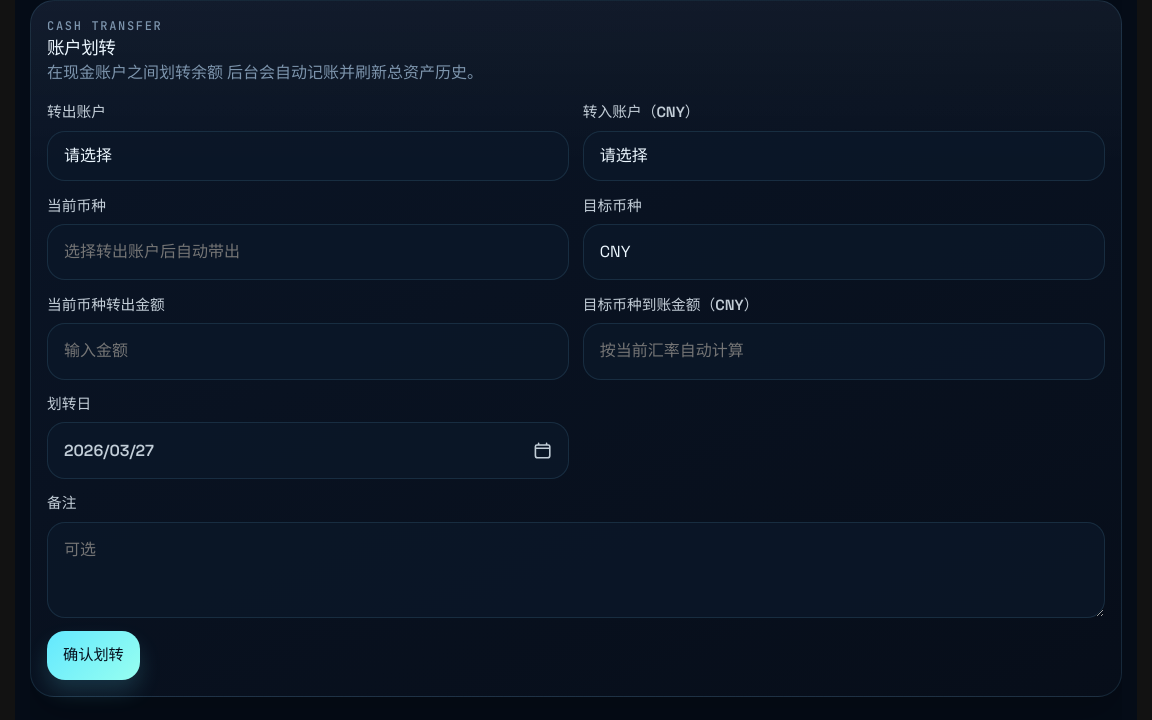
Test: CashTransferPanel › clamps transfer amount to the selected source account balance
The image size is (1152, 720).
Select "主账户 · 100 CNY" in the dropdown labelled "转出账户". click: point(308, 156)
box: [47,131,569,181]
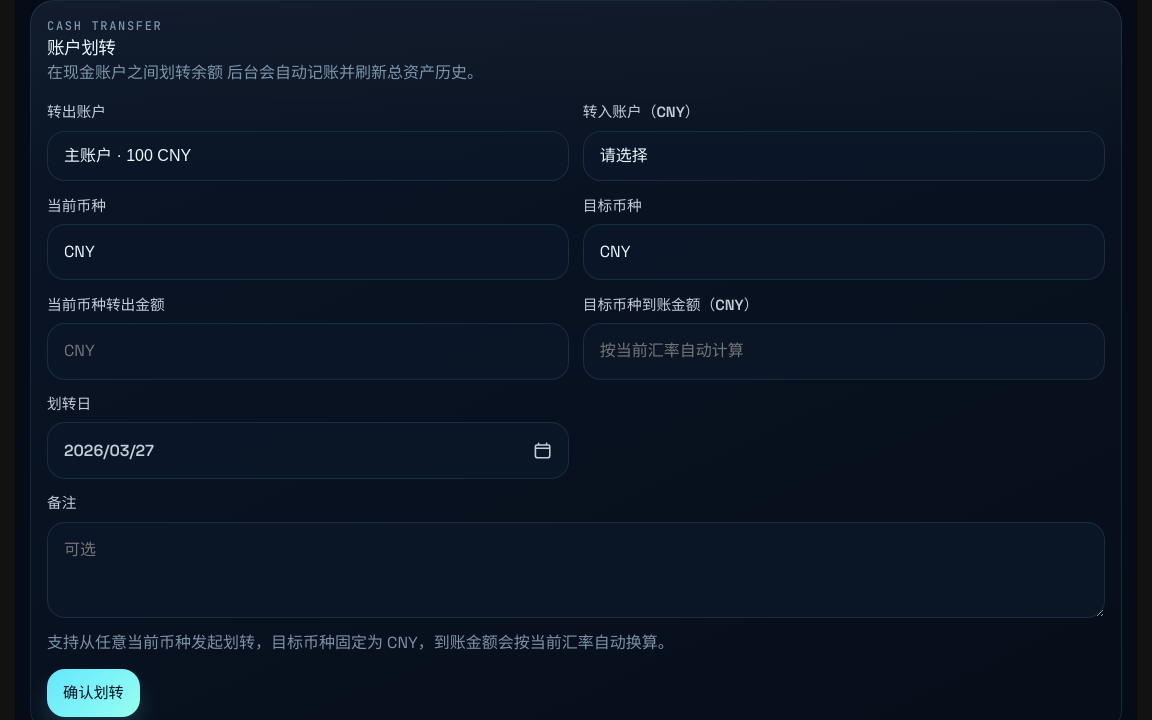
Type "150" into the field labelled "当前币种转出金额". click: point(308, 351)
box: [47,323,569,380]
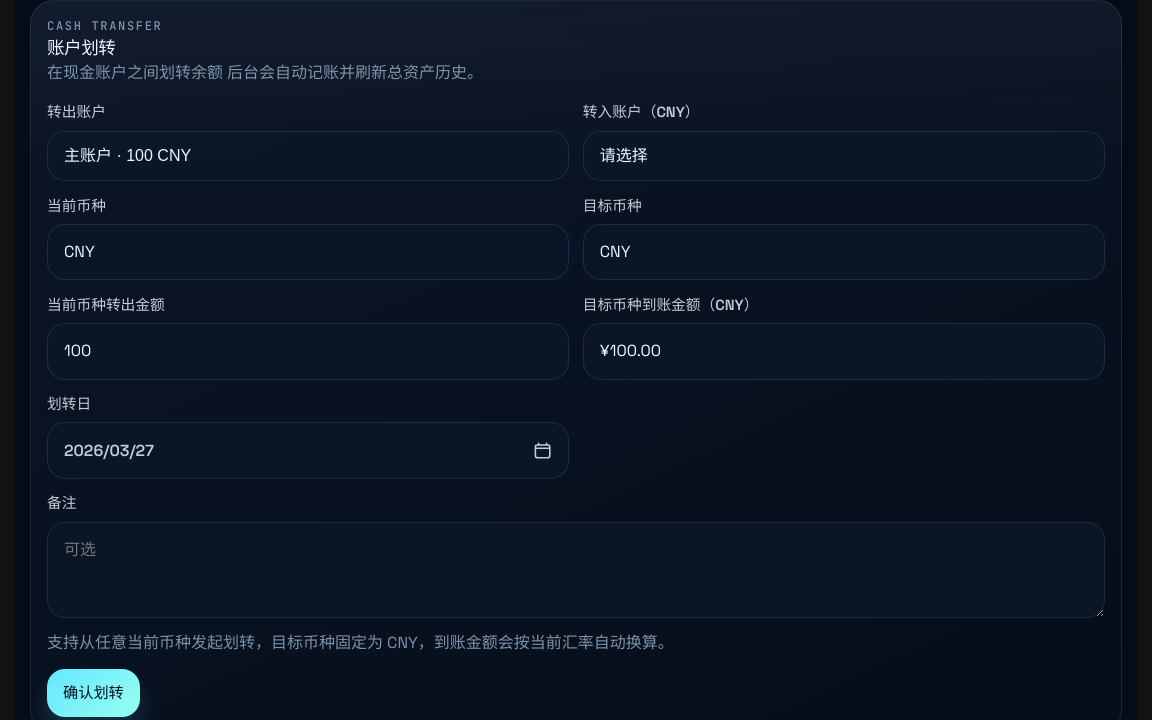
Result: the field labelled "当前币种转出金额" holds "100" at [47,323,569,380]
